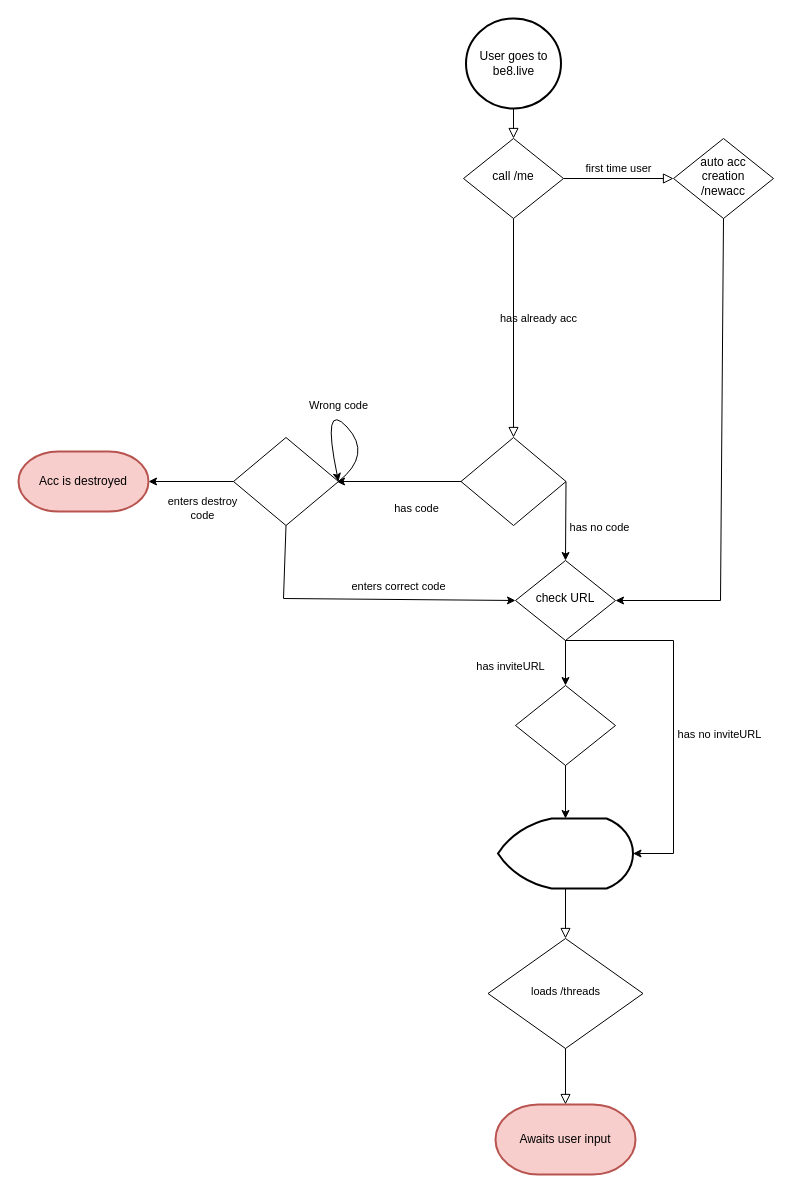
Image size: 791x1192. Some labels were removed from this diagram. Each missing label, with the centre of its shape:
"call /codehas" goes at (x=513, y=481).
"code window" goes at (x=285, y=481).
"joins Group or Dialog" goes at (x=565, y=725).
"Main Messenger UI appears" goes at (x=565, y=853).
